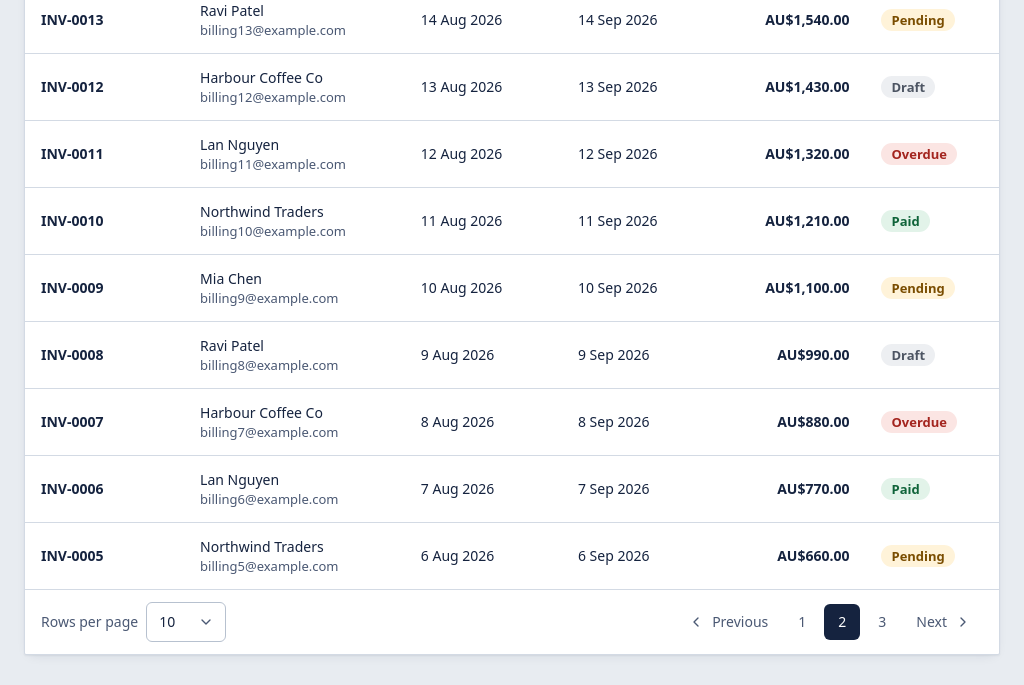
Test: invoice list › changes the page size and starts again from page one
The width and height of the screenshot is (1024, 685).
(page scrolled)
Select "20" in the dropdown labelled "Rows per page" at x=186, y=622, box [146,602,226,642]
(page scrolled)
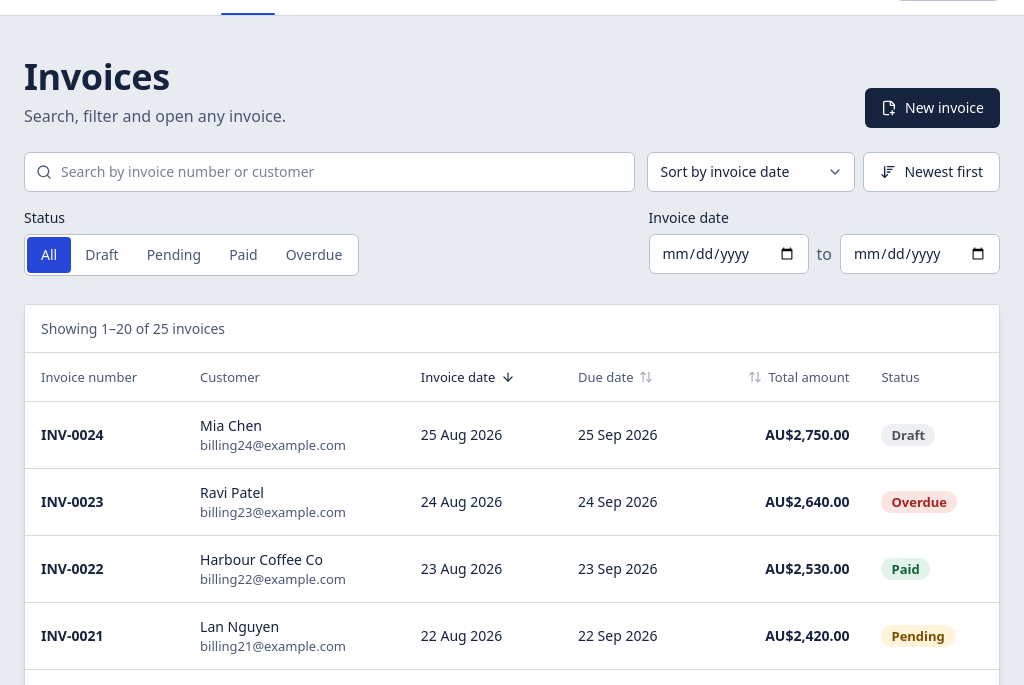
Expected: the text "Showing 1–20 of 25 invoices" is shown, [41,318,225,338]
